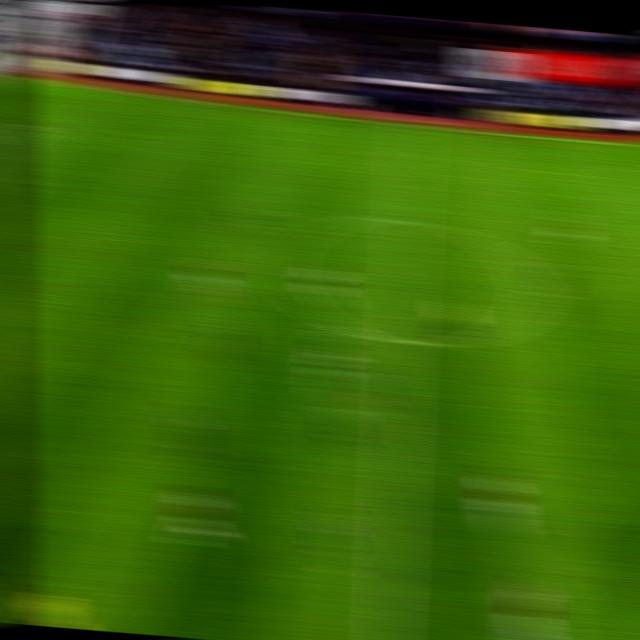bigarea_top_inner: (14, 114, 52, 140)
halfcircle_bottom: (381, 325, 425, 356)
halfcircle_top: (385, 206, 430, 235)
midline_top_intersection: (393, 110, 430, 136)
